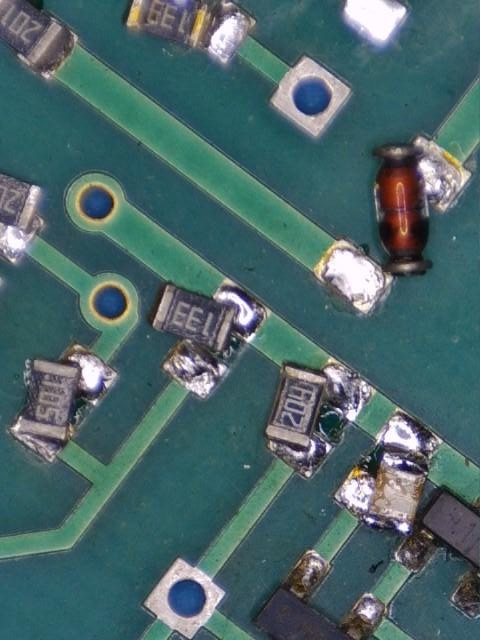pcb_defect: (311, 131, 474, 317), (150, 275, 273, 401), (331, 407, 442, 537), (263, 355, 377, 481), (7, 340, 120, 466), (124, 0, 259, 68), (0, 172, 46, 266)
